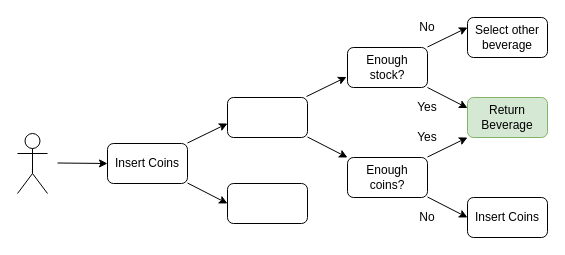
The diagram is 565 pixels wide and 255 high, and some of its shapes have lost their labels. The shapes that lost their labels are listed below. From the top down, each one's box as (x1, y1, x2, y2) in pixels, then its label:
(226, 96, 308, 138): Select beverage
(16, 132, 48, 194): Actor
(226, 182, 308, 224): Refund coins
